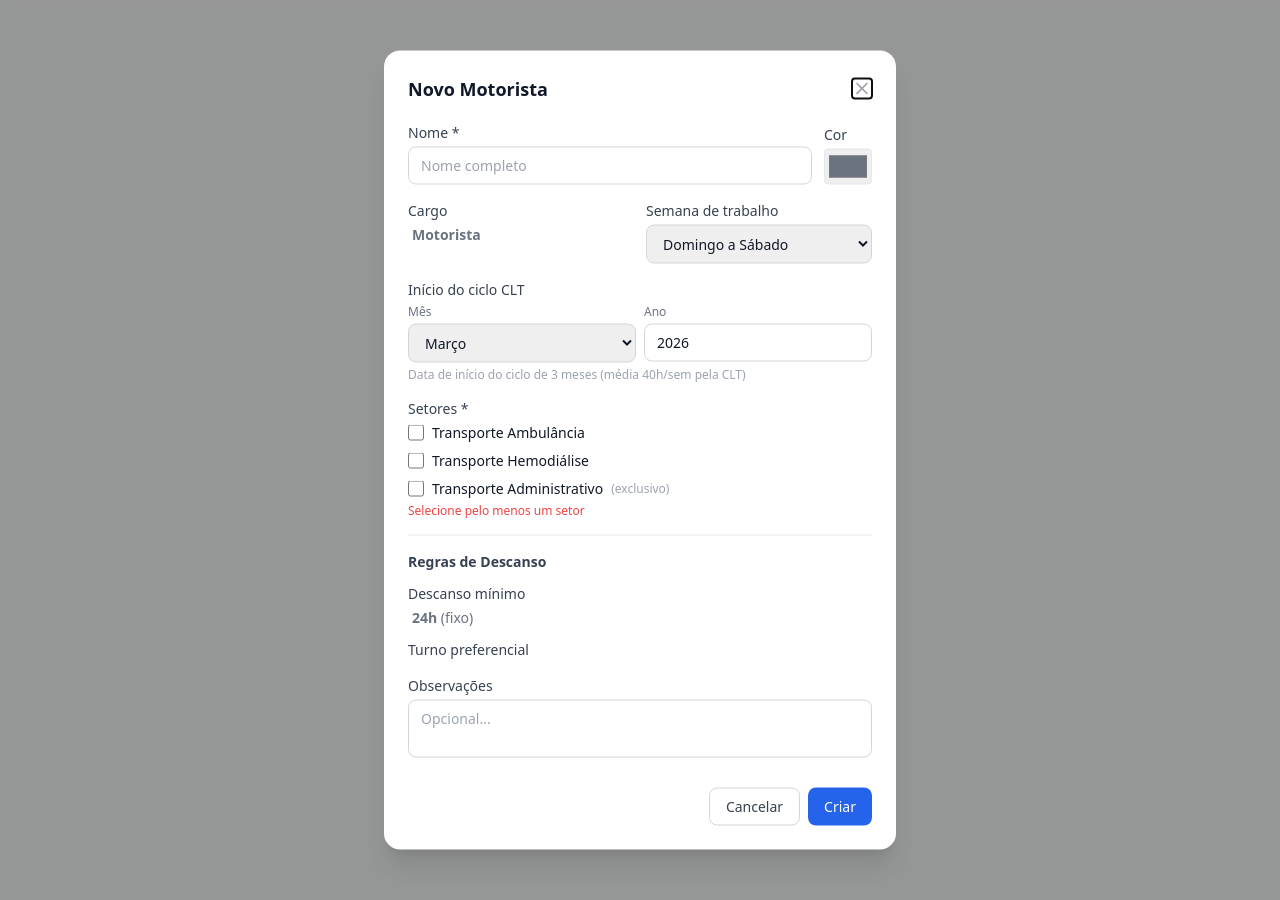
EmployeeForm — toggleSetor › aviso de setor obrigatório some após selecionar um setor
What coordinates should you click on to do the following:
click the checkbox labelled "Transporte Ambulância"
I would click on:
 (416, 432)
Its box is [408, 424, 424, 440].
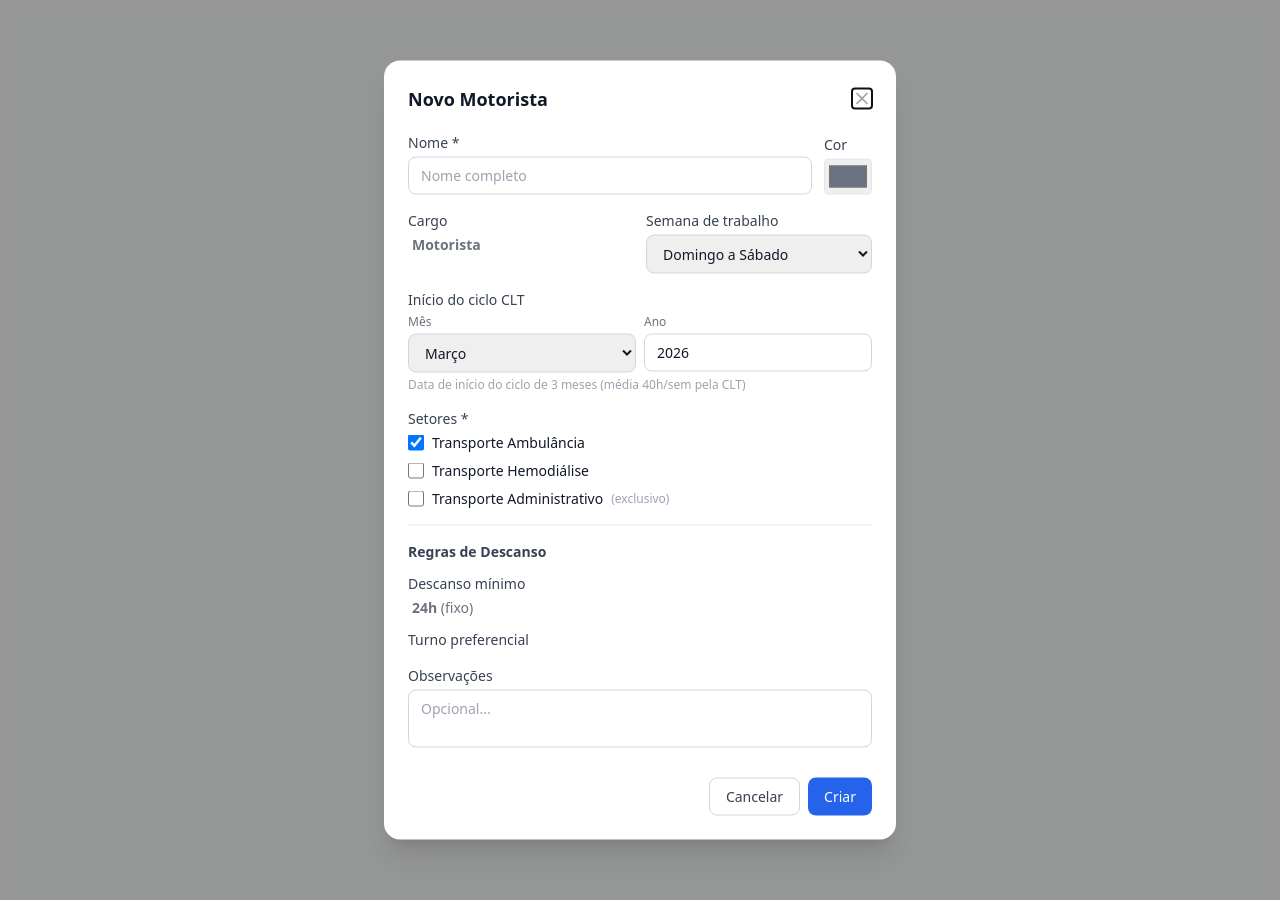
Expected: the text "Selecione pelo menos um setor" is gone
